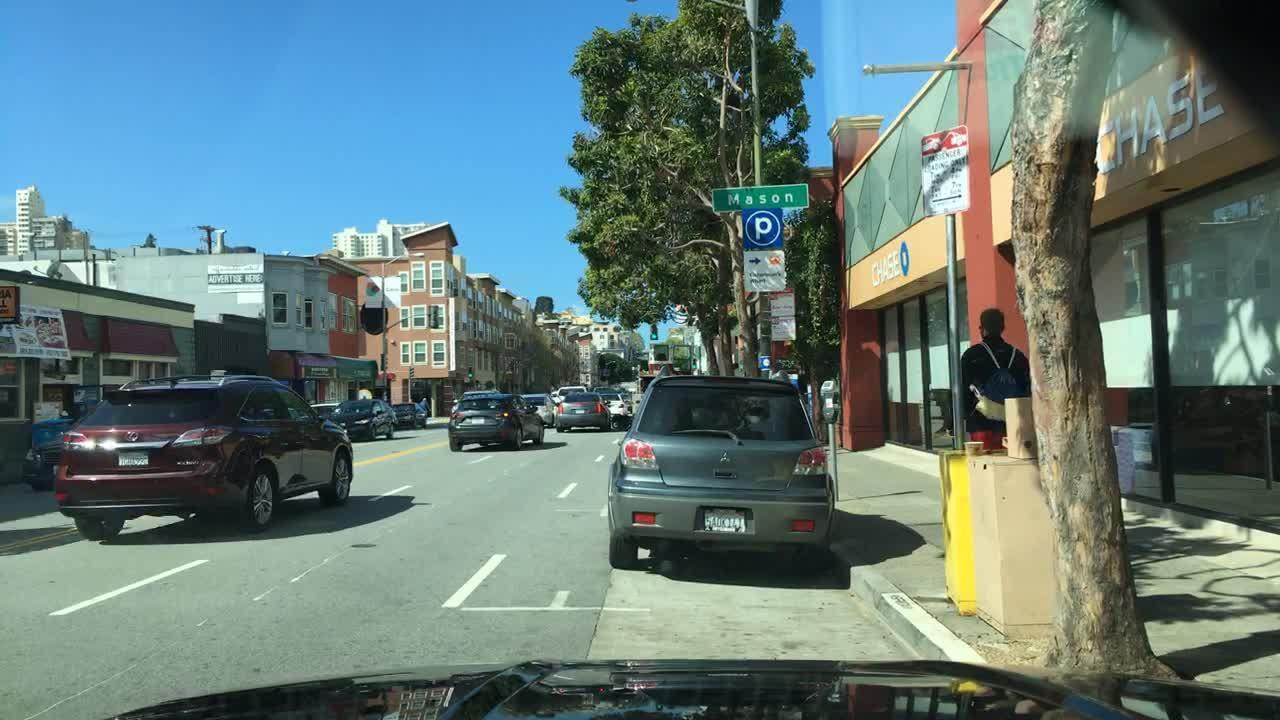lexus: (125, 428, 143, 446)
